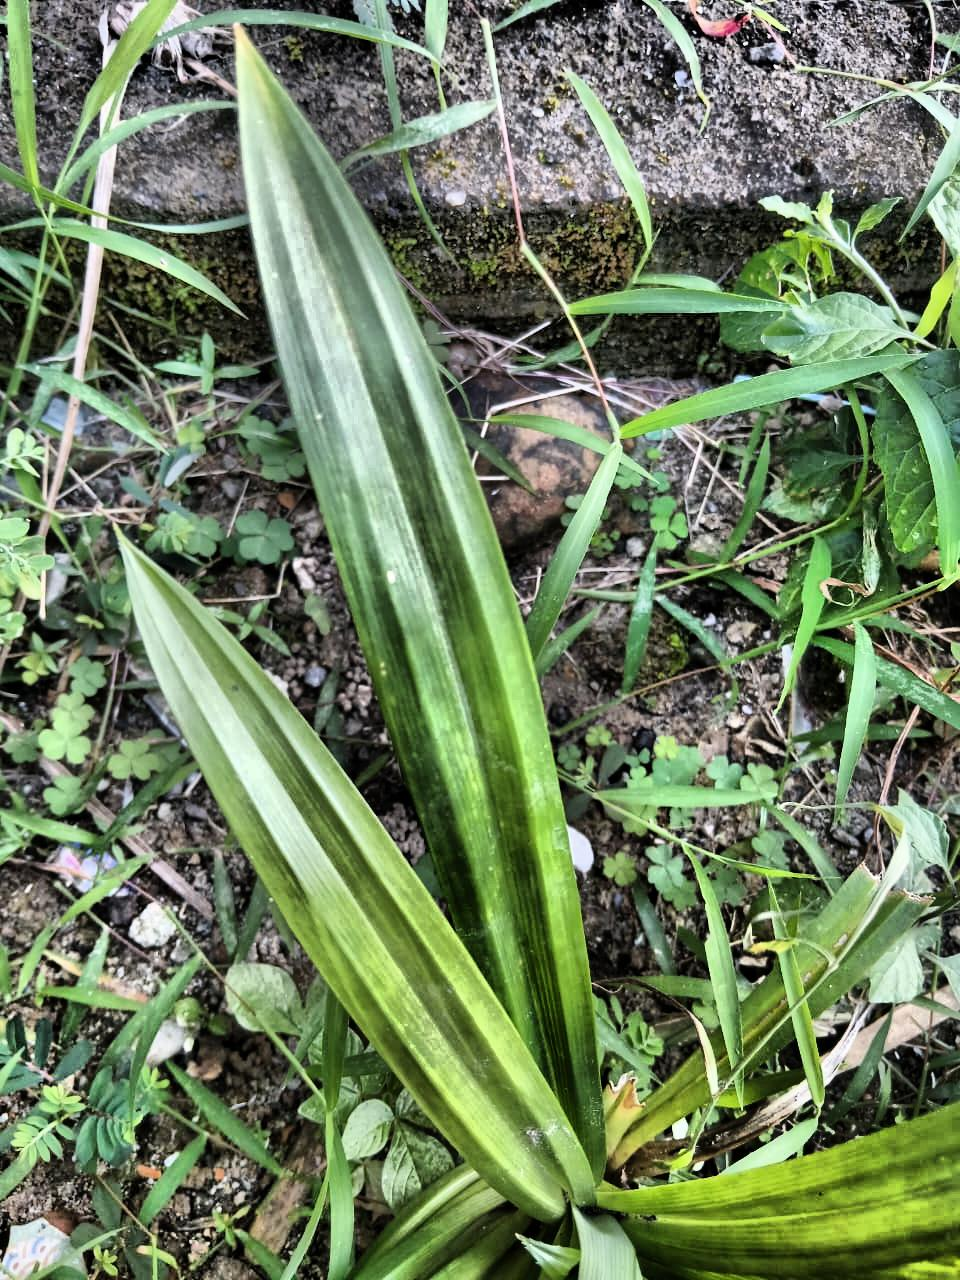daun pandan: (118, 30, 959, 1279)
